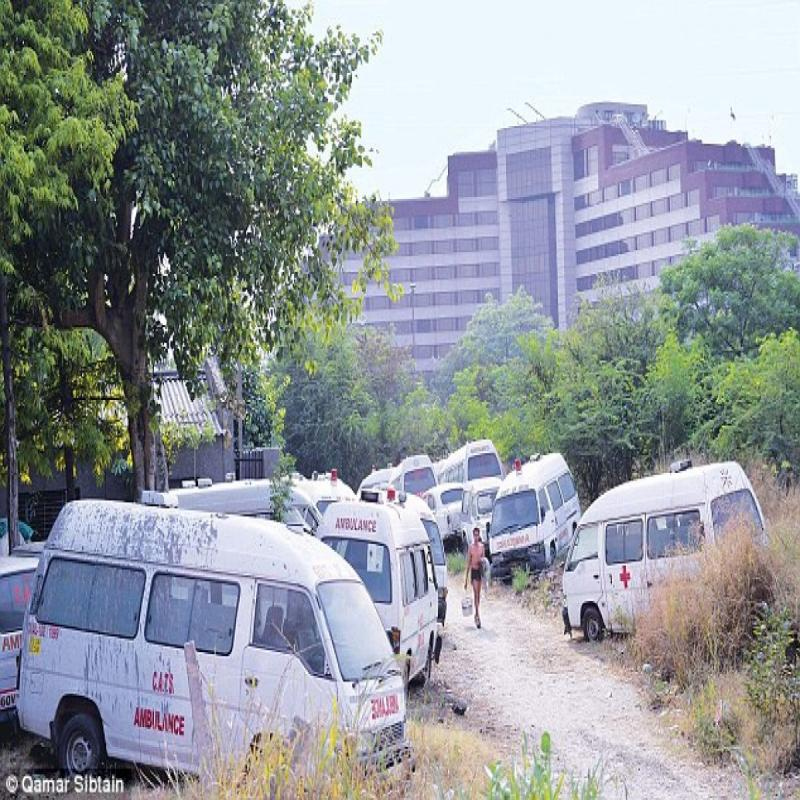ambulance: (14, 451, 440, 782), (562, 457, 780, 675)
